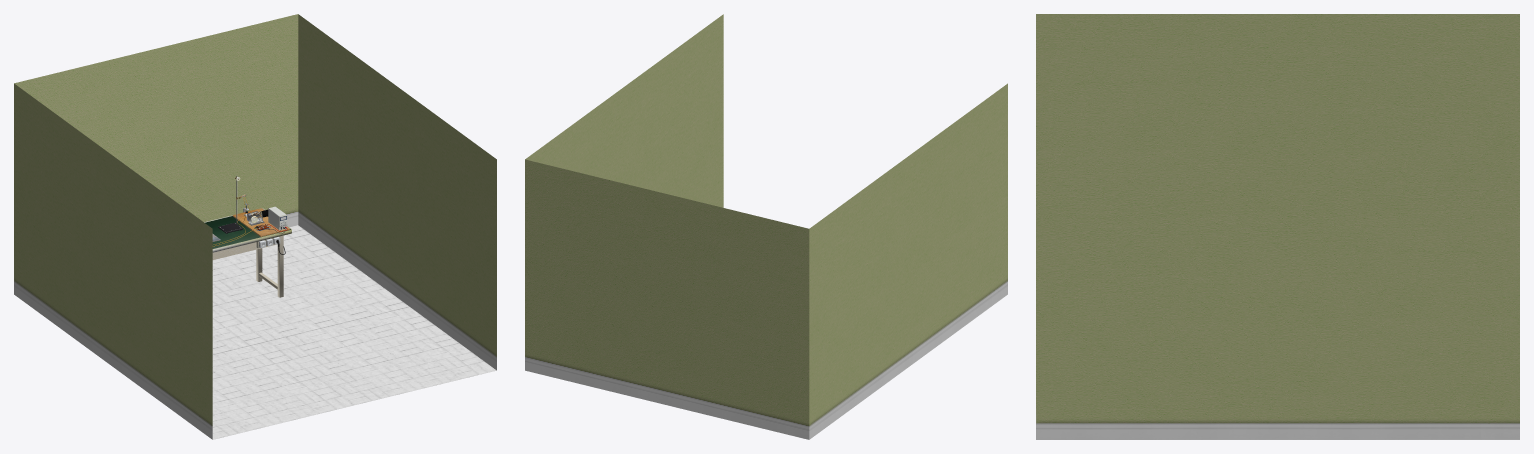
The model's file is ph-mpd-fcm.dae.
The picture shows the model from 3 angles, left to right: view 1: azimuth 30°, elevation 25°; view 2: azimuth 150°, elevation 25°; view 3: azimuth 270°, elevation 25°; orthographic projection. The views are drawn at different scales.
Parts seen in each view (by area): view 1: leftWall, rightWall, frontWall, floor, tableTop, tableStand, motorWoodenStand; view 2: frontWall, leftWall, rightWall; view 3: rightWall, leftWall.
Part boxes in pixels (x1=…): leftWall: x1=14, y1=83, x2=212, y2=439; rightWall: x1=298, y1=14, x2=496, y2=370; frontWall: x1=14, y1=14, x2=298, y2=227; floor: x1=212, y1=225, x2=496, y2=439; tableTop: x1=205, y1=216, x2=290, y2=248; tableStand: x1=256, y1=235, x2=283, y2=297; motorWoodenStand: x1=232, y1=208, x2=289, y2=236; frontWall: x1=525, y1=159, x2=809, y2=439; leftWall: x1=809, y1=83, x2=1007, y2=439; rightWall: x1=525, y1=14, x2=723, y2=207; rightWall: x1=1036, y1=183, x2=1519, y2=439; leftWall: x1=1036, y1=14, x2=1519, y2=182.
Size of the model in its own units: 56.57 by 68.5 by 40.17.
49 materials, 34 textured.
